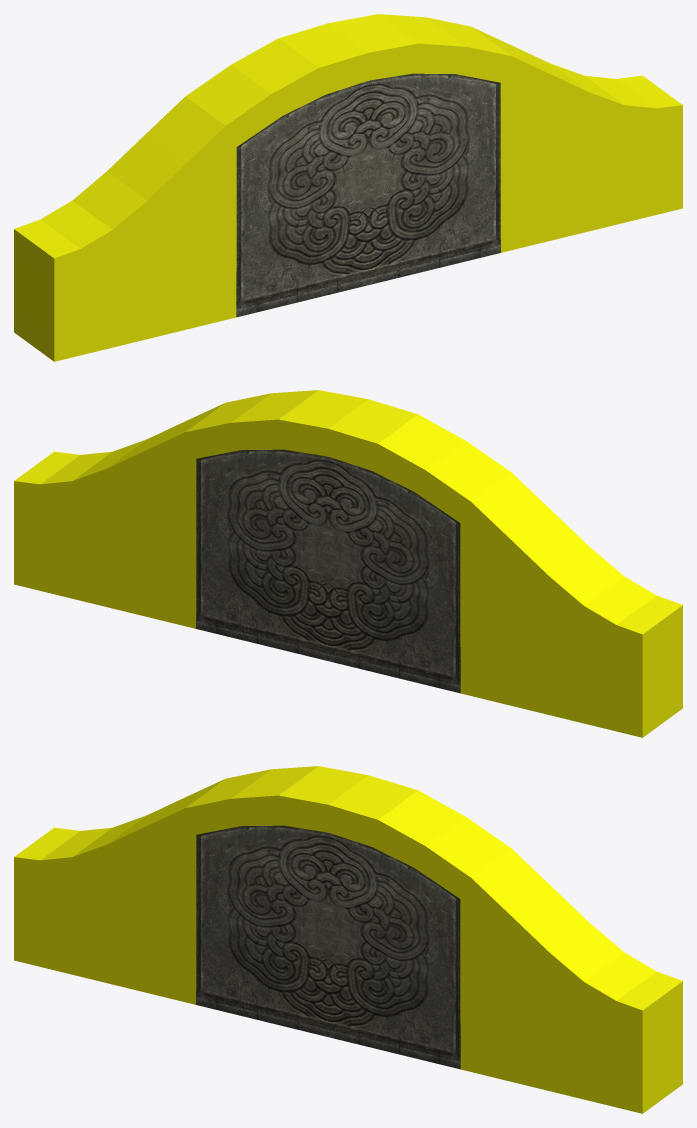
Rendered from 4st_wall_001.glb.
3 renders of one model, top to bottom at view 1: azimuth 30°, elevation 25°; view 2: azimuth 150°, elevation 25°; view 3: azimuth 330°, elevation 25°, orthographic.
Visible parts, largest first — view 1: 2st_wall_001; view 2: 2st_wall_001; view 3: 2st_wall_001.
Part boxes in pixels (<box>): 2st_wall_001: <box>14,14,682,361</box>; 2st_wall_001: <box>14,390,682,737</box>; 2st_wall_001: <box>14,766,682,1113</box>.
Size of the model in its own units: 12.58 by 4.45 by 1.4.
2 materials, 2 textured.
